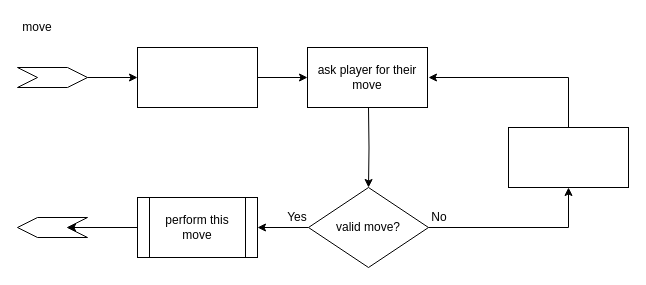
This 646x285 diagram has some shape labels left out. The box of each missing label's shape, as (x1, y1, x2, y2) in pixels:
clear screen and show game board: (136, 46, 258, 108)
tell player why this is an invalid move: (508, 126, 628, 188)
